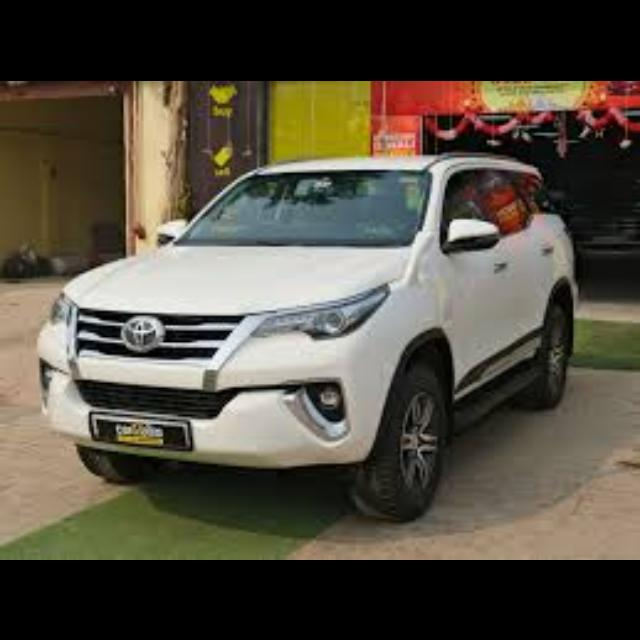vehicles: (29, 151, 583, 527)
